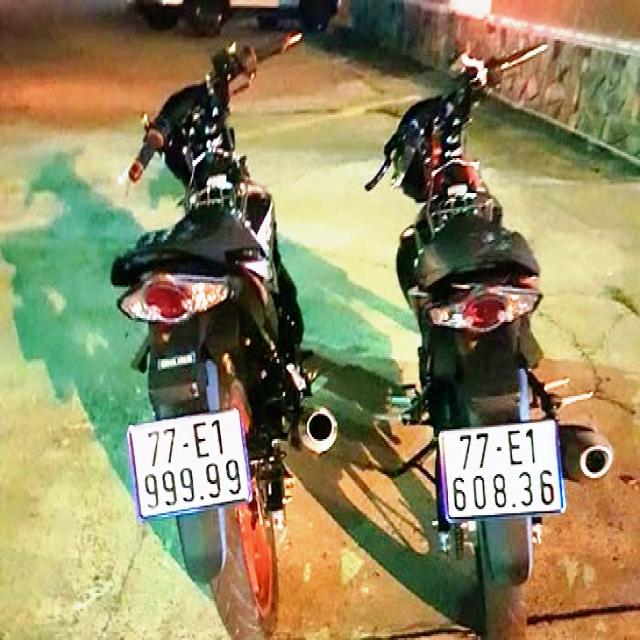license_plate: (129, 408, 252, 514), (444, 419, 566, 518)
